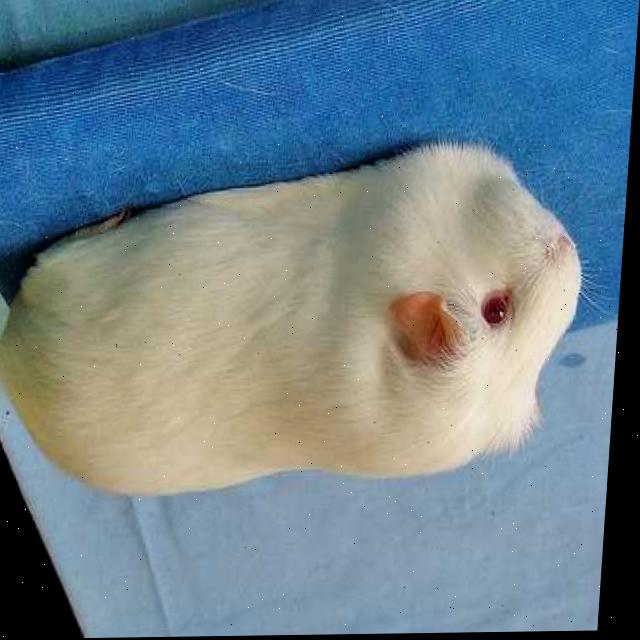guinea pig: (0, 144, 591, 502)
